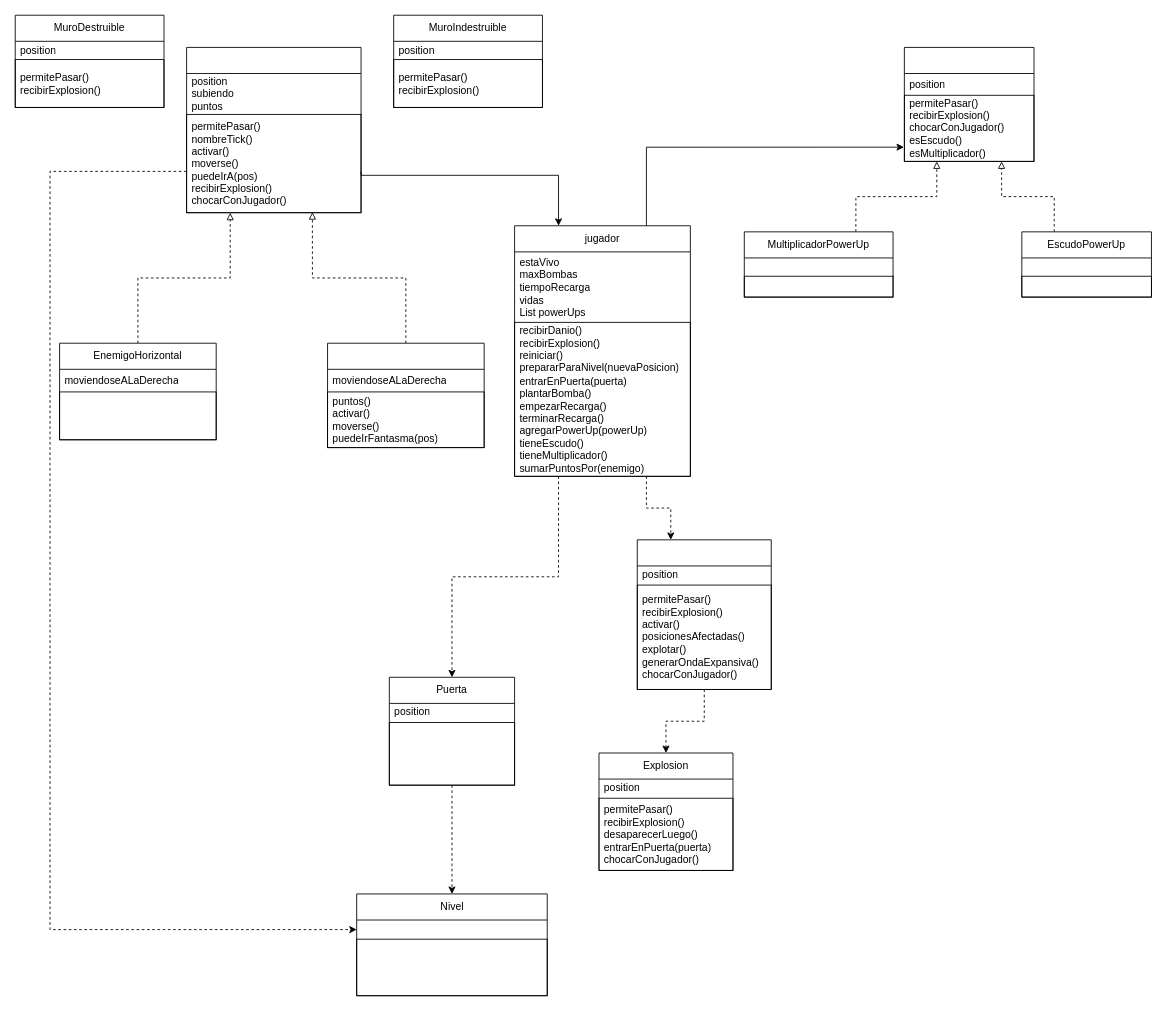
The diagram is 1167 pixels wide and 1011 high, and some of its shapes have lost their labels. The shapes that lost their labels are listed below. From the top down, each one's box as (x1, y1, x2, y2) in pixels, then its label:
(903, 47, 1034, 161): PowerUp
(186, 47, 361, 213): Enemigo
(743, 275, 893, 297): esMultiplicador()
(1021, 275, 1151, 297): esEscudo()
(327, 342, 484, 448): EnemigoFantasma
(59, 391, 216, 440): moverse() puedeIrHorizontal(pos)
(636, 539, 771, 689): Bomba
(388, 722, 515, 785): estaAbierta() permitePasar() recibirExplosion() chocarConJugador()
(356, 938, 547, 996): alEntrarApuerta() cumpleCondicionDeVictoria() eliminarEnemigoDeLaLista(enemigo)
